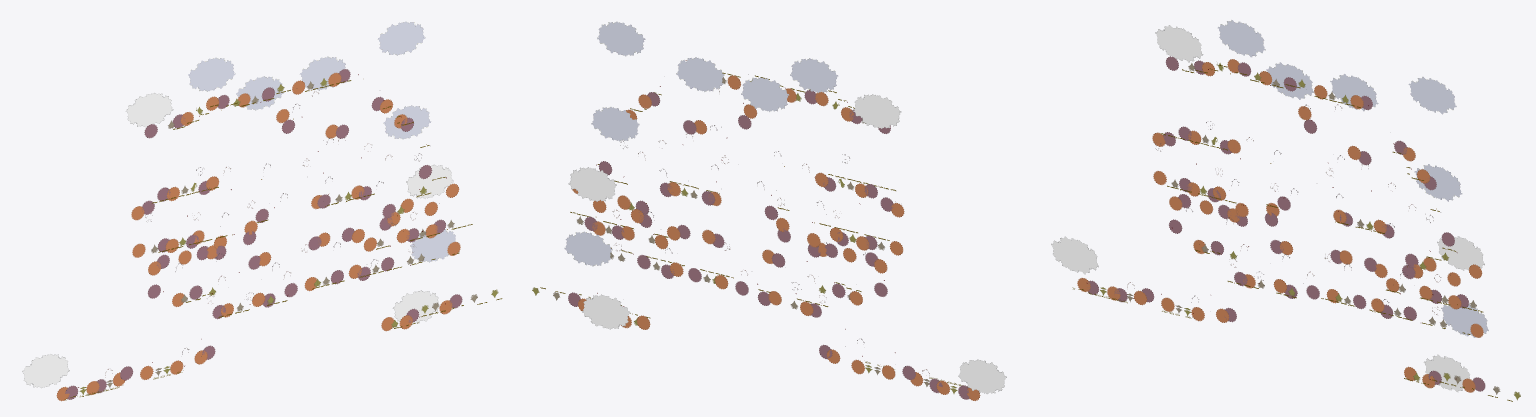
The model's file is iseki02_bg.glb.
3 views of the same model, side by side, from view 1: azimuth 30°, elevation 25°; view 2: azimuth 150°, elevation 25°; view 3: azimuth 330°, elevation 25° (orthographic).
Visible parts, largest first — view 1: iseki02_bg; view 2: iseki02_bg; view 3: iseki02_bg.
Part boxes in pixels (x1,y1,x2,y2): iseki02_bg: [22, 21, 502, 401]; iseki02_bg: [532, 21, 1006, 400]; iseki02_bg: [1051, 20, 1520, 401].
Size of the model in its own units: 3587 by 2257 by 136.
12 materials, 12 textured.
